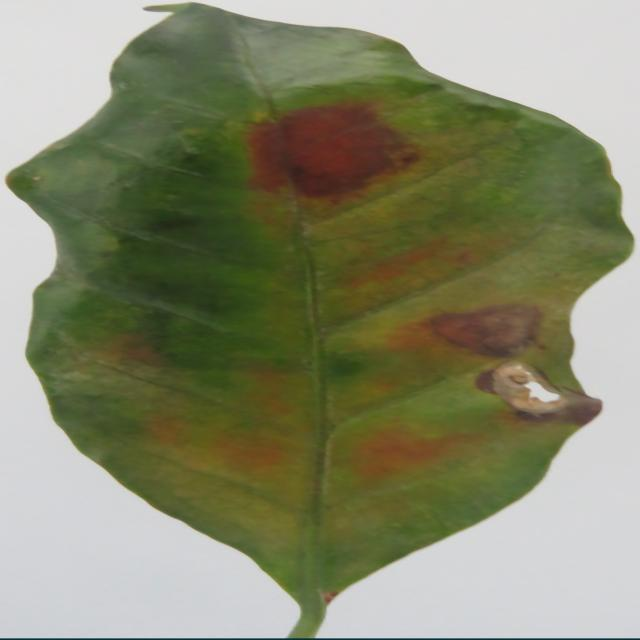DeficienciaNutricional-Fosforo: (9, 4, 631, 602)
